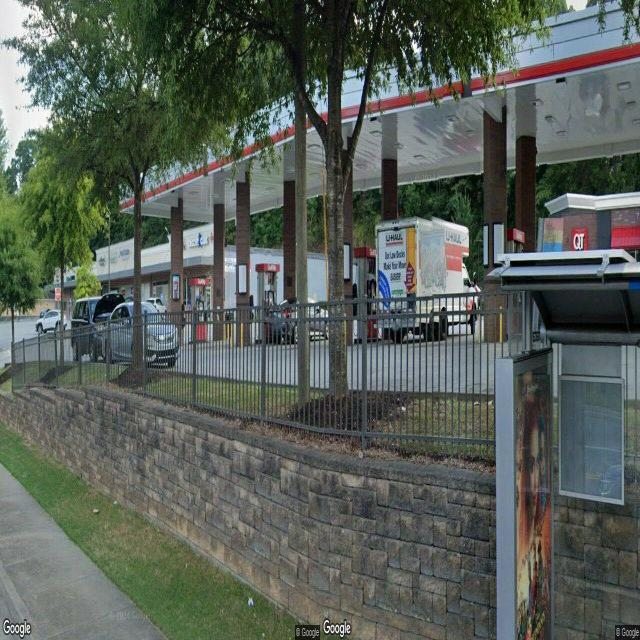shelter: (478, 254, 640, 640)
